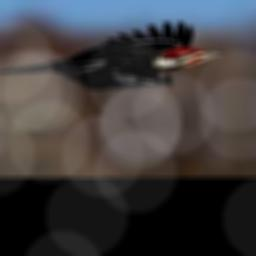Woodpecker: (0, 20, 229, 90)
